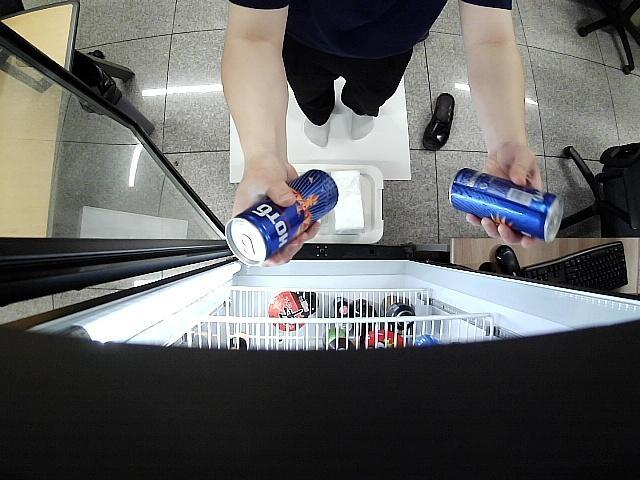16_hot6: (224, 168, 338, 264), (448, 166, 566, 244)
